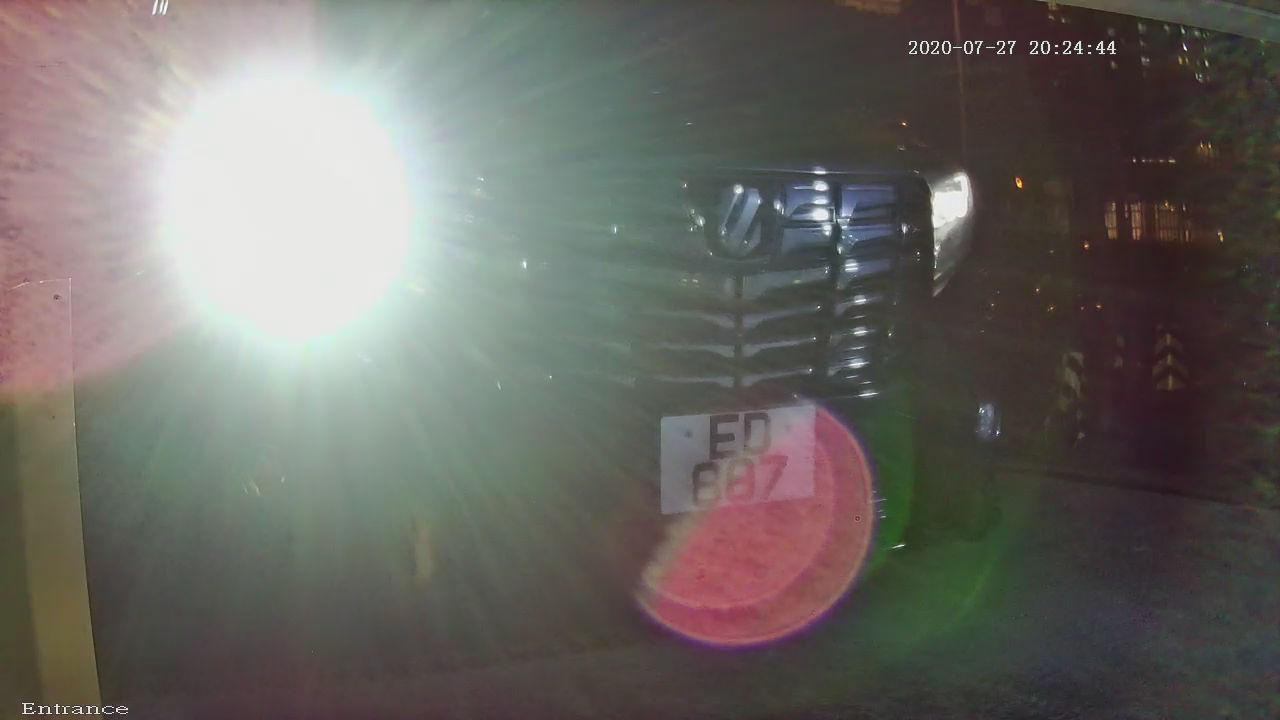privatecar: (141, 2, 1065, 665)
